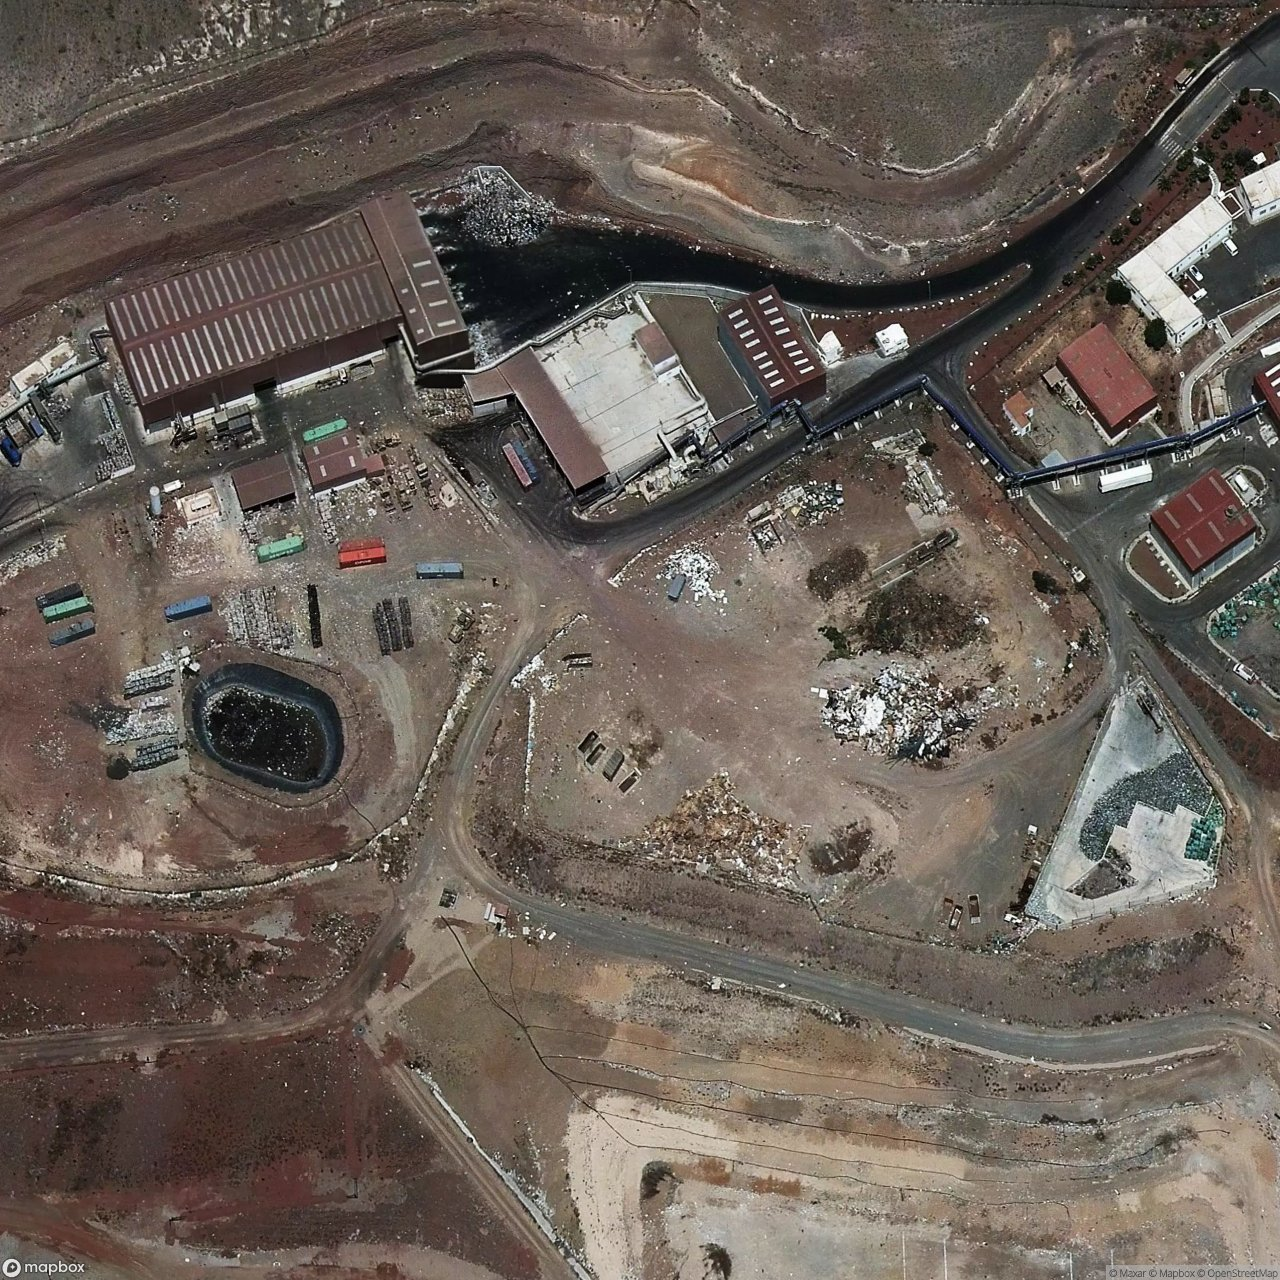dump_site: (797, 644, 1039, 783), (406, 156, 560, 252), (216, 580, 300, 658)
